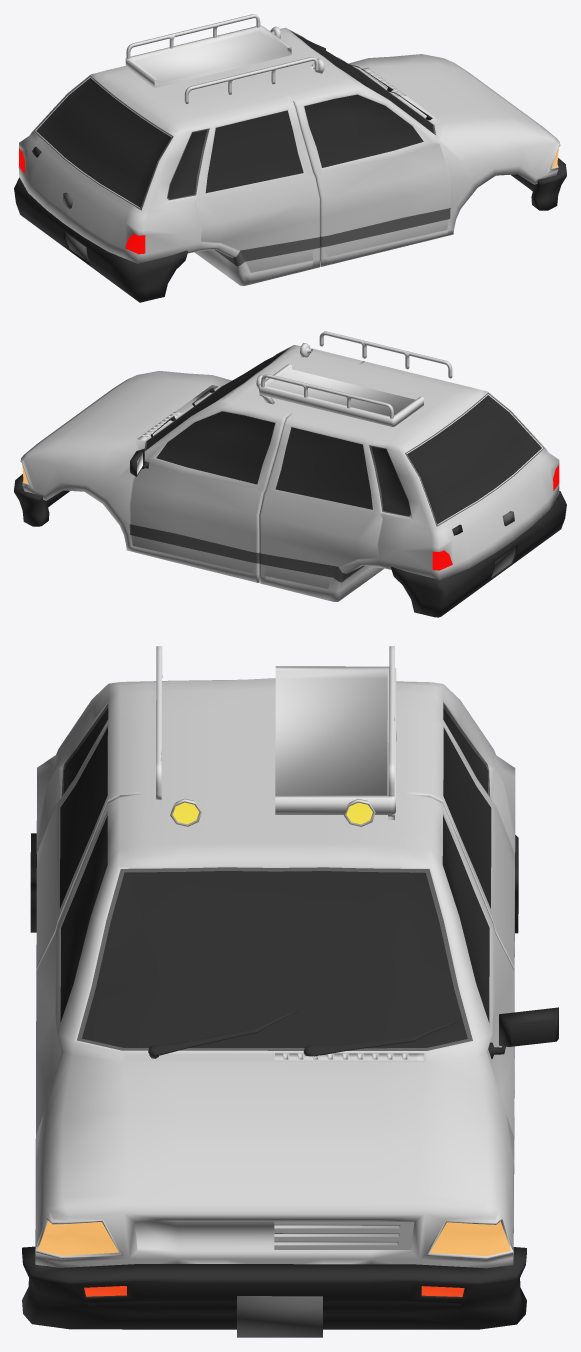
The model's file is Car.glb.
3 renders of one model, top to bottom at view 1: azimuth 30°, elevation 25°; view 2: azimuth 150°, elevation 25°; view 3: azimuth 270°, elevation 25°, orthographic. The views are drawn at different scales.
Parts seen in each view (by area): view 1: car-body, Roofcarriage, Cube.001, roof.001, car-body.001; view 2: car-body, Cube.001, Roofcarriage, roof.001, car-body.001; view 3: car-body, car-body.001, Roofcarriage, Front ac grill, Plate, Mirror, roof.001, Headlights, Wiperbase, Cube.001, Wipers, Wipers.001.
Boxes of the visible parts, x1,y1,x2,y2 form: car-body: [18, 27, 560, 285]; Roofcarriage: [125, 25, 291, 88]; Cube.001: [14, 177, 187, 302]; roof.001: [126, 14, 318, 103]; car-body.001: [510, 158, 566, 210]; car-body: [20, 345, 559, 601]; Cube.001: [391, 491, 566, 617]; Roofcarriage: [259, 364, 423, 426]; roof.001: [261, 331, 452, 418]; car-body.001: [14, 474, 69, 526]; car-body: [35, 678, 515, 1268]; car-body.001: [22, 1246, 526, 1329]; Roofcarriage: [275, 666, 396, 814]; Front ac grill: [274, 1221, 414, 1249]; Plate: [237, 1296, 322, 1337]; Mirror: [488, 1007, 558, 1058]; roof.001: [156, 646, 394, 799]; Headlights: [170, 798, 375, 826]; Wiperbase: [274, 1053, 424, 1061]; Cube.001: [30, 833, 518, 933]; Wipers: [303, 1020, 458, 1056]; Wipers.001: [148, 1009, 300, 1058].
Bounding box in the file's own units: 3.44 × 1.33 × 1.79.
